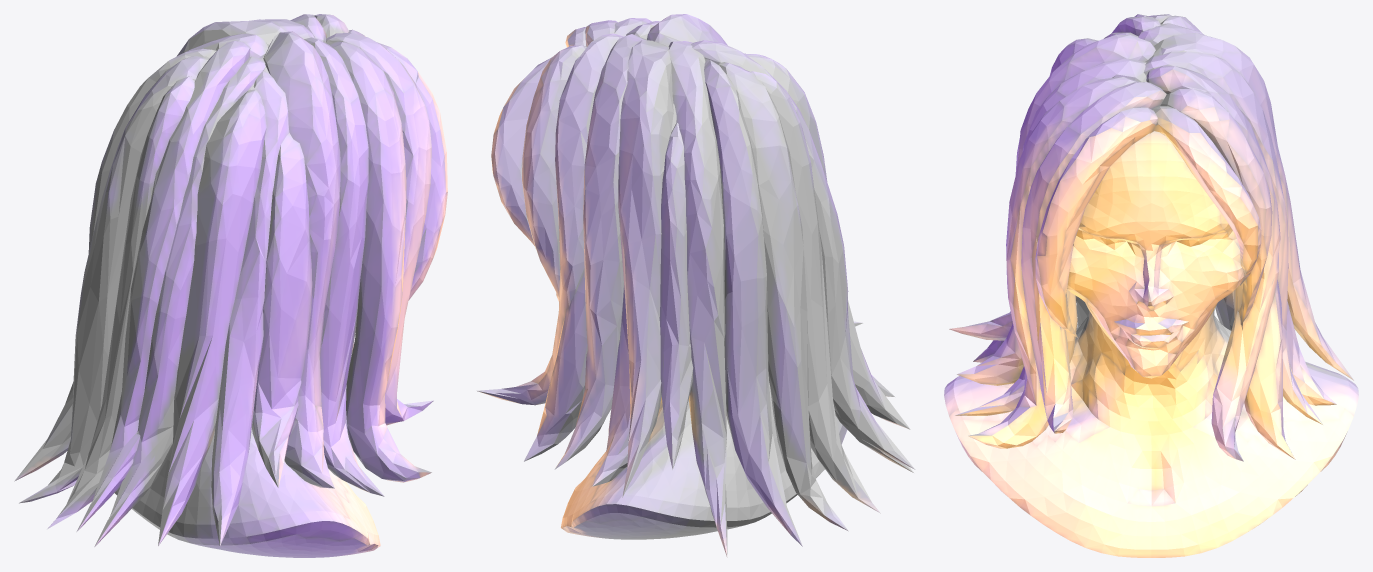
File: Filter_2.glb
The picture shows the model from 3 angles, left to right: view 1: azimuth 30°, elevation 25°; view 2: azimuth 150°, elevation 25°; view 3: azimuth 270°, elevation 25°; orthographic projection. The views are drawn at different scales.
Parts seen in each view (by area): view 1: buste_3; view 2: buste_3; view 3: buste_3.
Boxes of the visible parts, box(x1,y1,x2,y2) form: buste_3: box(14, 14, 447, 557); buste_3: box(476, 14, 915, 557); buste_3: box(944, 14, 1358, 557).
Bounding box in the file's own units: 71.68 × 94.14 × 71.61.
